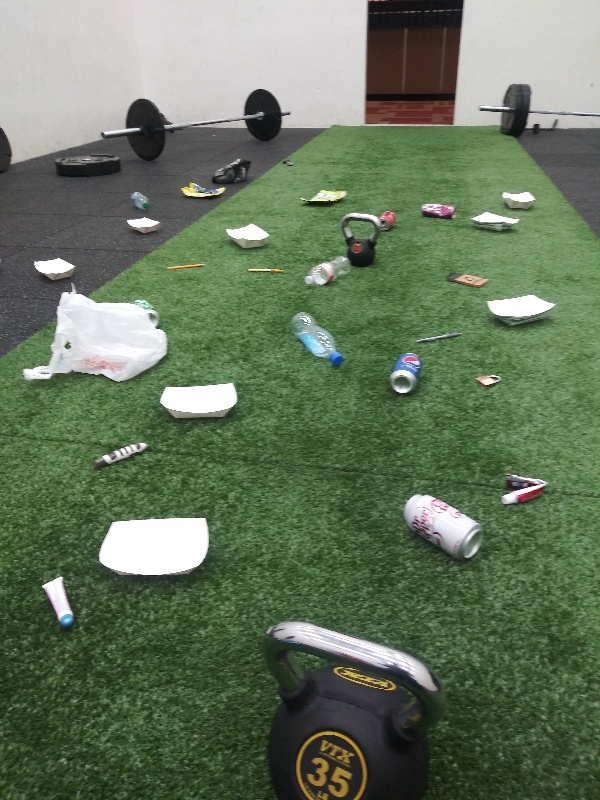bag: (177, 176, 230, 201), (297, 186, 352, 207)
bottle: (286, 310, 348, 370), (299, 251, 357, 289), (126, 184, 154, 216)
can: (400, 489, 485, 563), (385, 346, 428, 394), (417, 198, 458, 222), (133, 296, 162, 325), (376, 205, 400, 232)
plate: (94, 516, 211, 578), (154, 378, 240, 426), (483, 292, 557, 327), (218, 220, 273, 254), (27, 250, 79, 282), (466, 208, 522, 235), (495, 187, 540, 211), (124, 216, 162, 234)
